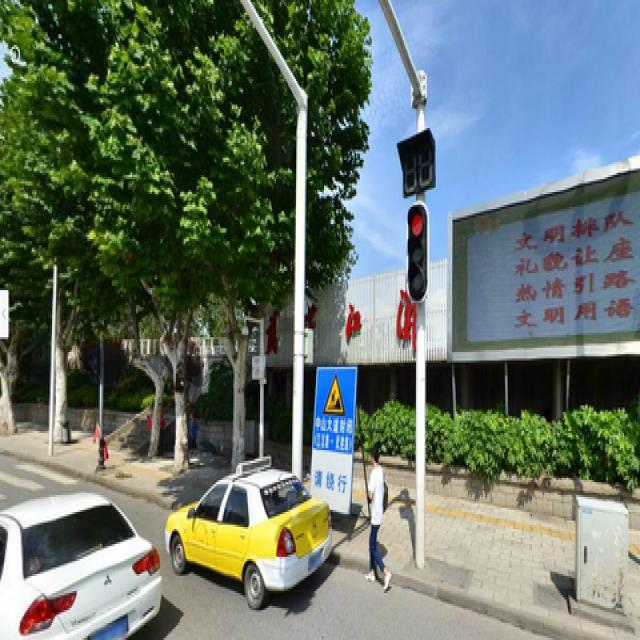meta: (173, 9, 315, 472), (66, 4, 170, 459)
